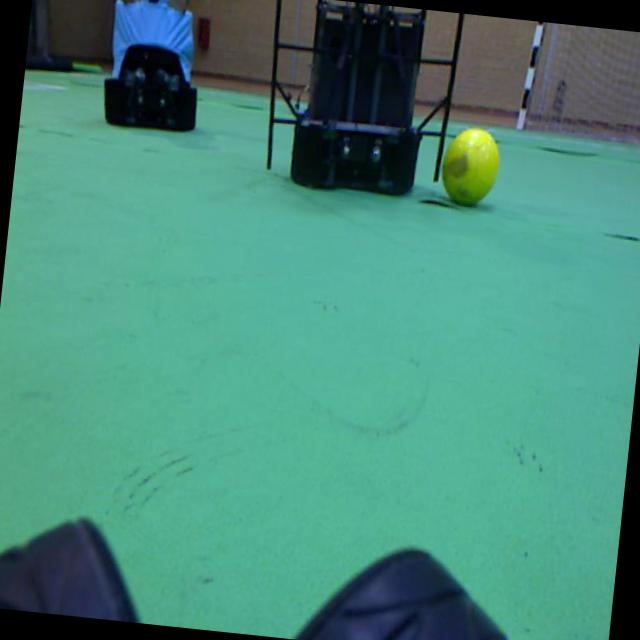ball: (442, 128, 499, 204)
robot: (290, 0, 424, 193)
